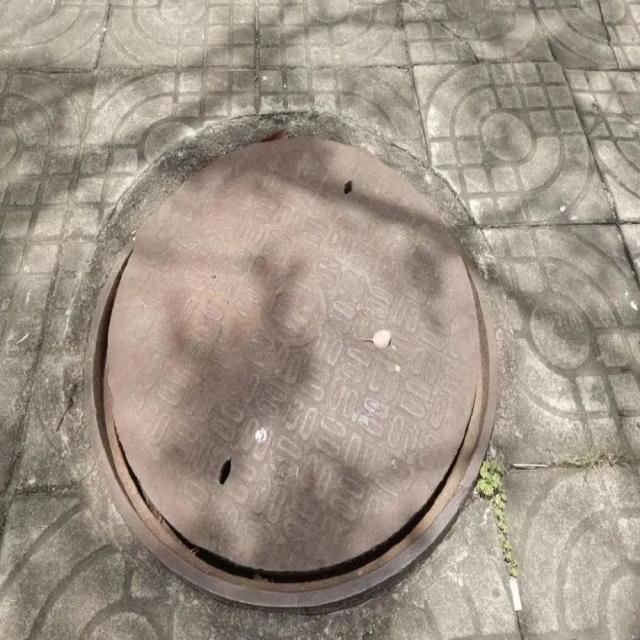manhole: (91, 122, 497, 613)
